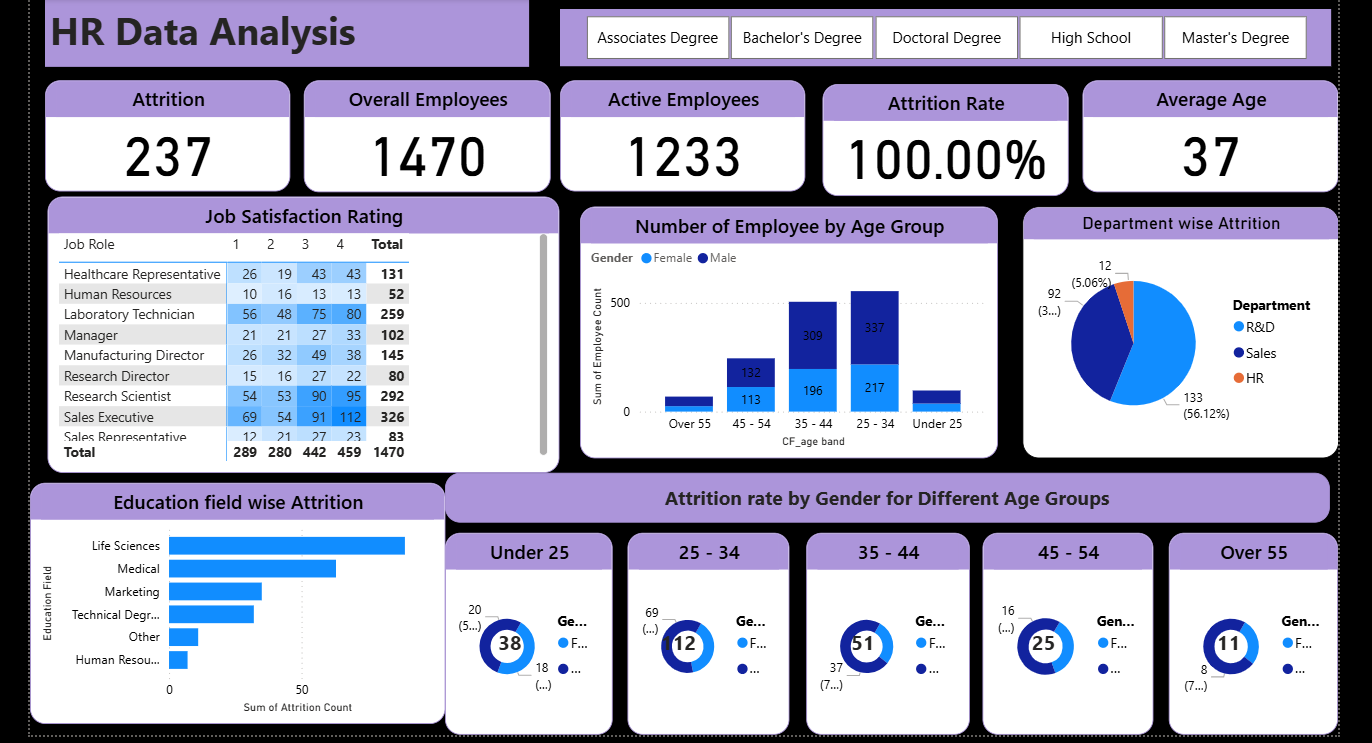

What the dashboard file says about the page in this screenshot:
{"tool":"powerbi","page":{"name":"Page 2","canvas":[1280,720],"ordinal":1},"visuals":[{"type":"card","title":"Overall Employees","fields":{"Values":["Sum(HR data.Employee Count)"]},"box":[267.8,79.2,241.9,109.4],"z":0},{"type":"card","title":"Attrition","fields":{"Values":["Sum(HR data.Attrition Count)"]},"box":[15.1,79,240.2,109.2],"z":1000},{"type":"card","title":"Attrition Rate","fields":{"Values":["HR data.Attrition rate"]},"box":[774.7,83.5,240.5,109.4],"z":2000},{"type":"card","title":"Active Employees","fields":{"Values":["HR data.Active Employees"]},"box":[519.1,79,240.2,109.2],"z":3000},{"type":"card","title":"Average Age","fields":{"Values":["Avg(HR data.Age)"]},"box":[1029.6,79.2,250.6,109.4],"z":4000},{"type":"pieChart","title":"Department wise Attrition ","fields":{"Category":["HR data.Department"],"Y":["Sum(HR data.Attrition Count)"]},"box":[970.6,203,309.6,246.2],"z":5000},{"type":"columnChart","title":"Number of Employee by Age Group","fields":{"Category":["HR data.CF_age band"],"Y":["Sum(HR data.Employee Count)"],"Series":["HR data.Gender"]},"box":[538.6,203,409,246.2],"z":6000},{"type":"pivotTable","title":"Job Satisfaction Rating","fields":{"Rows":["HR data.Job Role"],"Columns":["HR data.Job Satisfaction"],"Values":["Sum(HR data.Employee Count)"]},"box":[17.3,193,501.1,270.7],"z":7000},{"type":"barChart","title":"Education field wise Attrition","fields":{"Category":["HR data.Education Field"],"Y":["Sum(HR data.Attrition Count)"]},"box":[0,473.8,406.1,236.2],"z":8000},{"type":"donutChart","title":"Under 25","fields":{"Category":["HR data.Gender"],"Y":["Sum(HR data.Attrition Count)"],"Series":["HR data.CF_age band"]},"box":[406.1,522.7,164.2,197.3],"z":9000},{"type":"textbox","box":[406.1,463.7,865.4,49],"z":10000},{"type":"donutChart","title":"Over 55","fields":{"Category":["HR data.Gender"],"Y":["Sum(HR data.Attrition Count)"],"Series":["HR data.CF_age band"]},"box":[1114.6,522.7,165.6,197.3],"z":11000},{"type":"donutChart","title":" 25 - 34","fields":{"Category":["HR data.Gender"],"Y":["Sum(HR data.Attrition Count)"],"Series":["HR data.CF_age band"]},"box":[584.6,522.7,158.4,197.3],"z":12000},{"type":"donutChart","title":"35 - 44","fields":{"Category":["HR data.Gender"],"Y":["Sum(HR data.Attrition Count)"],"Series":["HR data.CF_age band"]},"box":[758.9,522.7,159.8,197.3],"z":13000},{"type":"donutChart","title":"45 - 54","fields":{"Category":["HR data.Gender"],"Y":["Sum(HR data.Attrition Count)"],"Series":["HR data.CF_age band"]},"box":[931.7,522.7,167,197.3],"z":14000},{"type":"card","fields":{"Values":["Sum(HR data.Attrition Count)"]},"box":[421.6,603,95.7,57.1],"z":15000},{"type":"card","fields":{"Values":["Sum(HR data.Attrition Count)"]},"box":[591.3,603,85.7,57.1],"z":16000},{"type":"card","fields":{"Values":["Sum(HR data.Attrition Count)"]},"box":[774.4,603,82.3,57.1],"z":17000},{"type":"card","fields":{"Values":["Sum(HR data.Attrition Count)"]},"box":[944,603,95.7,57.1],"z":18000},{"type":"card","fields":{"Values":["Sum(HR data.Attrition Count)"]},"box":[1125.5,603,95.7,57.1],"z":19000},{"type":"textbox","box":[14.4,0,473.8,66.2],"z":20000},{"type":"slicer","fields":{"Values":["HR data.Education"]},"box":[518.4,10.1,754.6,56.2],"z":21000}]}

Visuals, with their boxes in screenshot pixels (x1, y1, x2, y2):
"Overall Employees" card: (x1=301, y1=77, x2=547, y2=188)
"Attrition" card: (x1=44, y1=77, x2=288, y2=188)
"Attrition Rate" card: (x1=817, y1=81, x2=1062, y2=193)
"Active Employees" card: (x1=557, y1=77, x2=801, y2=188)
"Average Age" card: (x1=1077, y1=77, x2=1332, y2=188)
"Department wise Attrition " pieChart: (x1=1017, y1=203, x2=1332, y2=454)
"Number of Employee by Age Group" columnChart: (x1=577, y1=203, x2=993, y2=454)
"Job Satisfaction Rating" pivotTable: (x1=46, y1=193, x2=556, y2=468)
"Education field wise Attrition" barChart: (x1=29, y1=479, x2=442, y2=719)
"Under 25" donutChart: (x1=442, y1=528, x2=609, y2=729)
textbox: (x1=442, y1=468, x2=1323, y2=518)
"Over 55" donutChart: (x1=1163, y1=528, x2=1332, y2=729)
" 25 - 34" donutChart: (x1=624, y1=528, x2=785, y2=729)
"35 - 44" donutChart: (x1=801, y1=528, x2=964, y2=729)
"45 - 54" donutChart: (x1=977, y1=528, x2=1147, y2=729)
card - Sum(HR data.Attrition Count): (x1=458, y1=610, x2=555, y2=668)
card - Sum(HR data.Attrition Count): (x1=630, y1=610, x2=718, y2=668)
card - Sum(HR data.Attrition Count): (x1=817, y1=610, x2=901, y2=668)
card - Sum(HR data.Attrition Count): (x1=989, y1=610, x2=1087, y2=668)
card - Sum(HR data.Attrition Count): (x1=1174, y1=610, x2=1272, y2=668)
textbox: (x1=43, y1=0, x2=526, y2=64)
slicer - HR data.Education: (x1=556, y1=7, x2=1324, y2=64)
